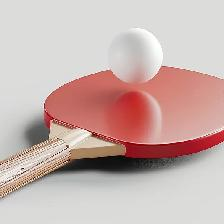WhiteBall: (107, 28, 162, 83)
